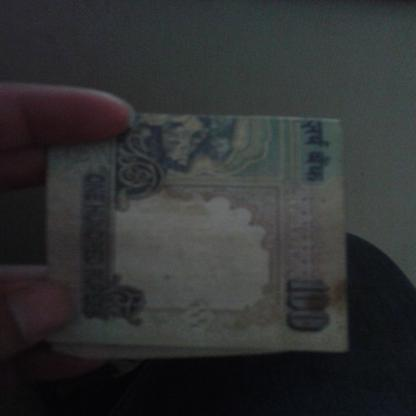Old100Back: (44, 114, 346, 361)
